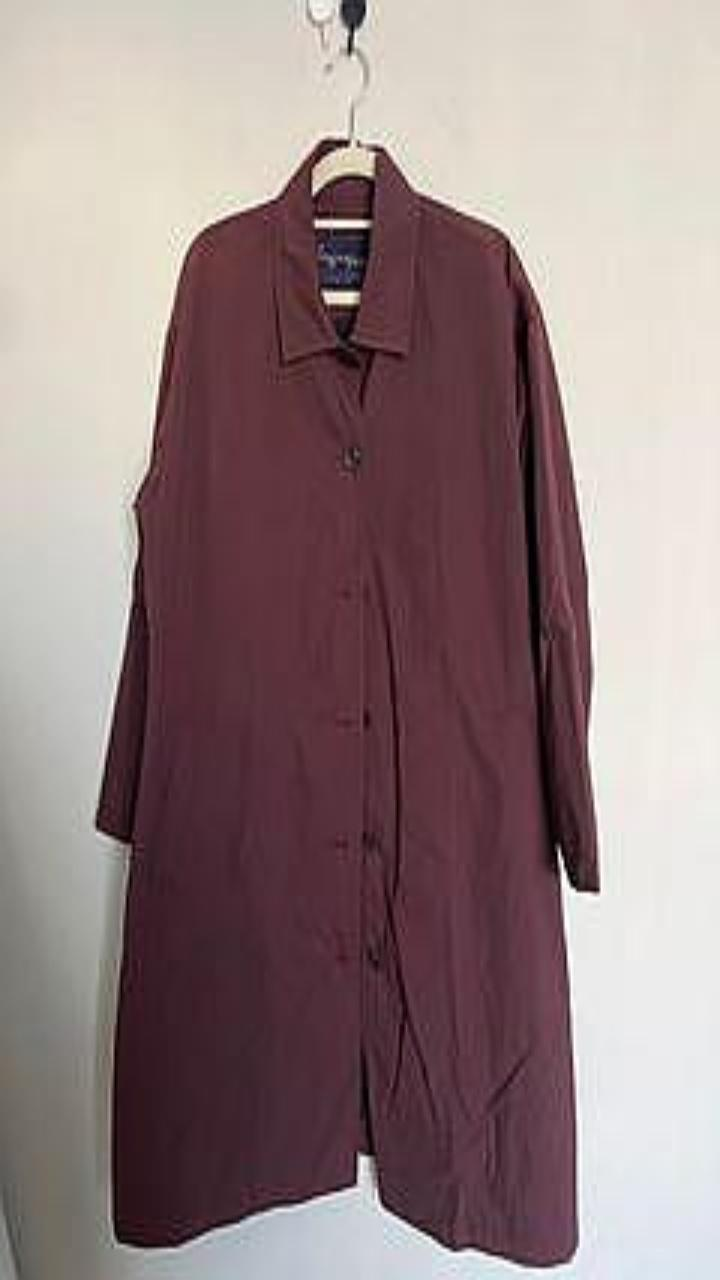Coat: (96, 137, 599, 1264)
